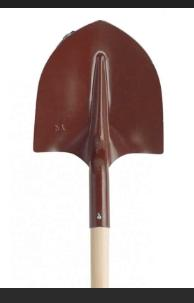PELLE: (0, 13, 168, 303)
